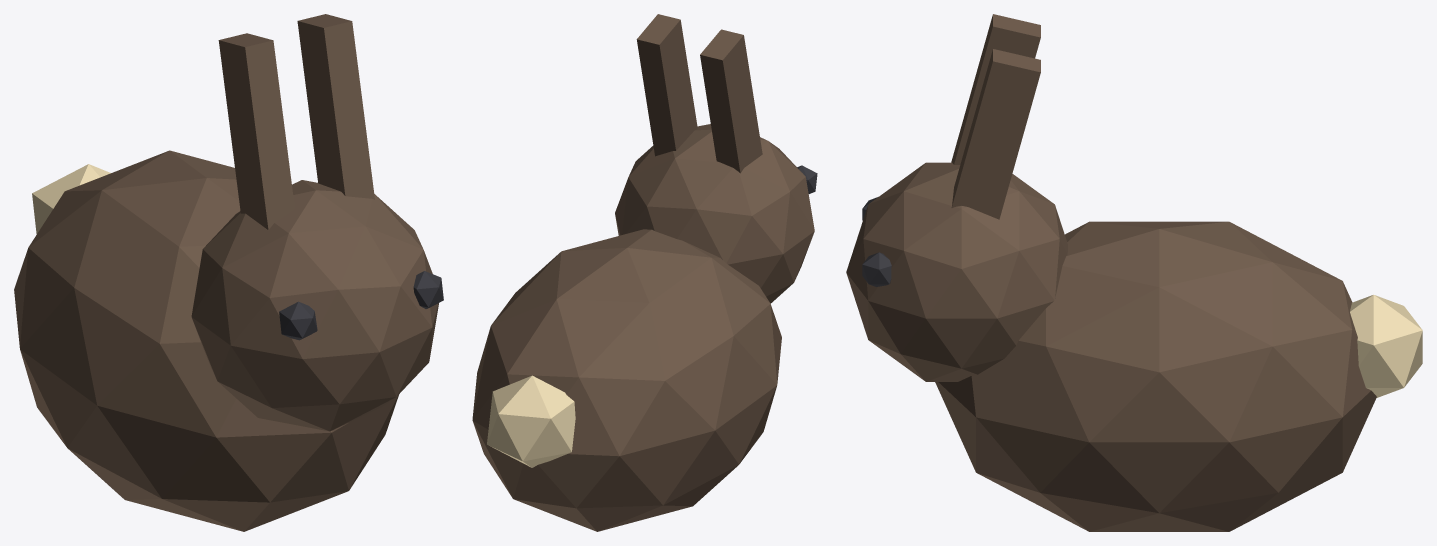
File: rabbit_3.glb
3 renders of one model, left to right at view 1: azimuth 30°, elevation 25°; view 2: azimuth 150°, elevation 25°; view 3: azimuth 270°, elevation 25°, orthographic. The views are drawn at different scales.
Parts seen in each view (by area): view 1: body, head, fur_#6E5A4A, iron, tail; view 2: body, head, fur_#6E5A4A, tail; view 3: body, head, fur_#6E5A4A, tail, iron.
Part boxes in pixels (x1,y1,x2,y2): body: [14, 150, 398, 531]; head: [191, 180, 438, 431]; fur_#6E5A4A: [218, 14, 374, 229]; iron: [279, 271, 443, 340]; tail: [32, 164, 110, 233]; body: [472, 229, 781, 531]; head: [615, 124, 814, 303]; fur_#6E5A4A: [636, 14, 762, 173]; tail: [487, 375, 575, 467]; body: [935, 221, 1376, 531]; head: [846, 162, 1067, 381]; fur_#6E5A4A: [951, 14, 1040, 219]; tail: [1350, 294, 1422, 397]; iron: [862, 197, 891, 286].
Bounding box in the file's own units: 0.1883 × 0.326 × 0.3498.
